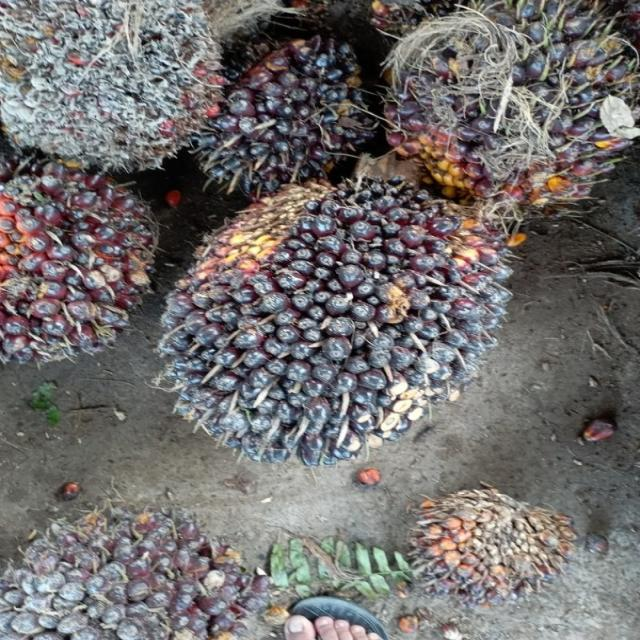fraksi 00: (160, 173, 522, 490), (394, 0, 633, 206), (196, 30, 373, 188), (416, 481, 577, 612)
fraksi 1: (0, 150, 151, 368)
